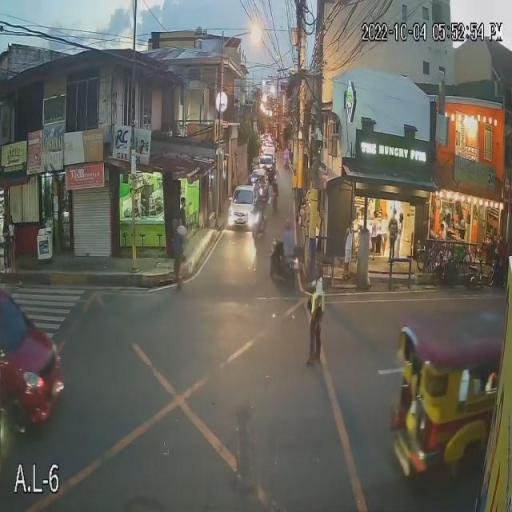helmet: (282, 216, 294, 234)
motorcycle: (269, 235, 304, 287)
rider: (281, 216, 293, 270)
